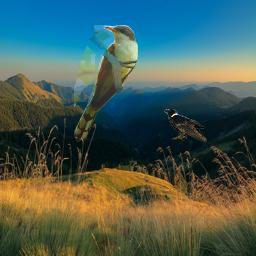Crow: (164, 108, 207, 142)
Cuckoo: (74, 25, 138, 142)
